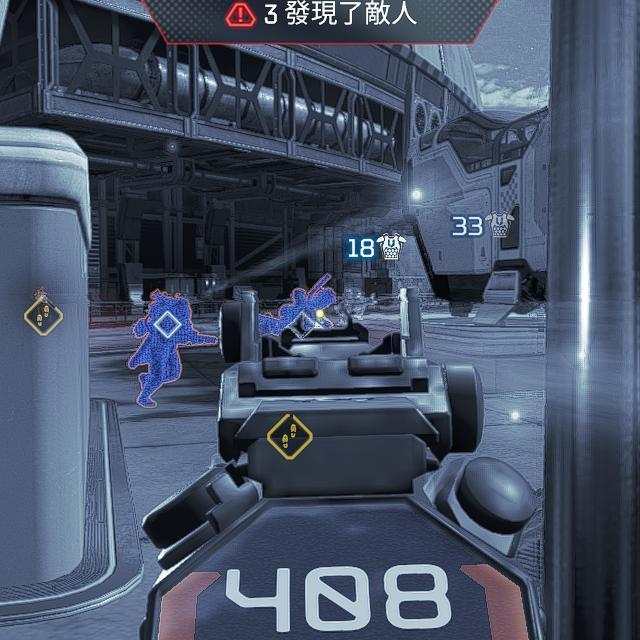avatar: (132, 289, 195, 411)
object: (154, 310, 181, 339)
